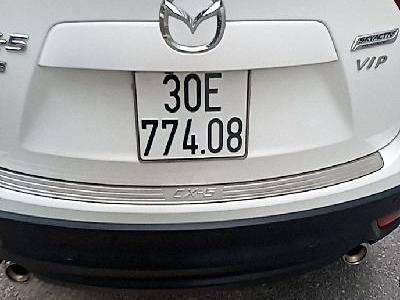car: (132, 68, 253, 164)
